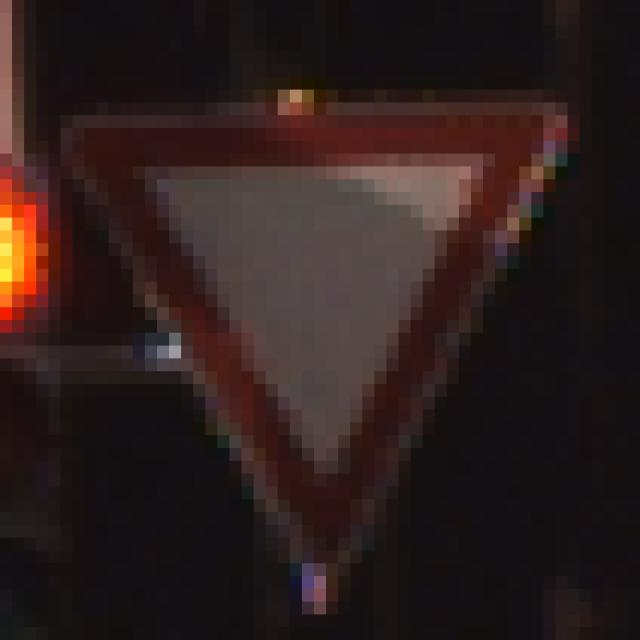Give Way: (62, 65, 581, 564)
